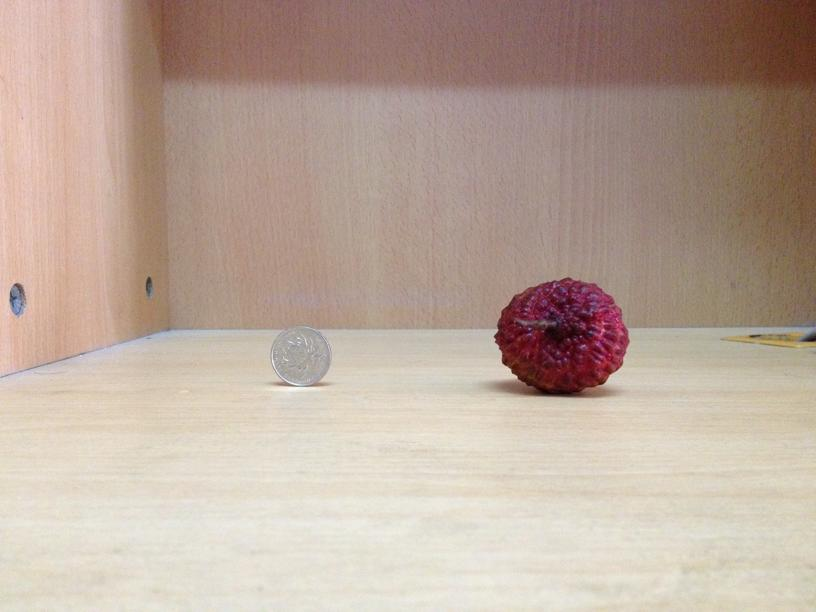coin: (270, 324, 331, 386)
litchi: (493, 274, 629, 392)
